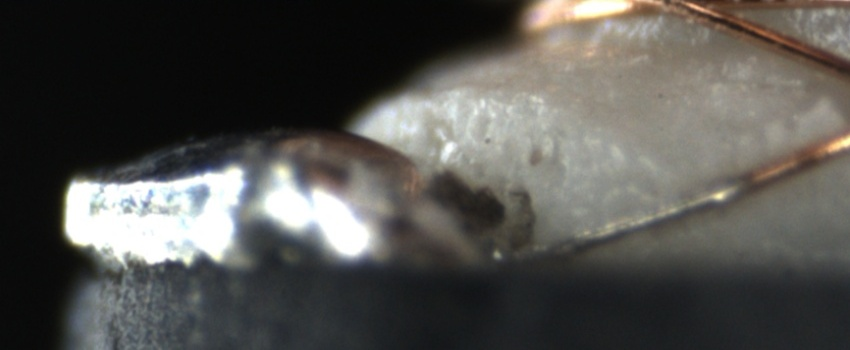TS: (506, 175, 749, 264)
TTCW: (491, 141, 830, 265)
